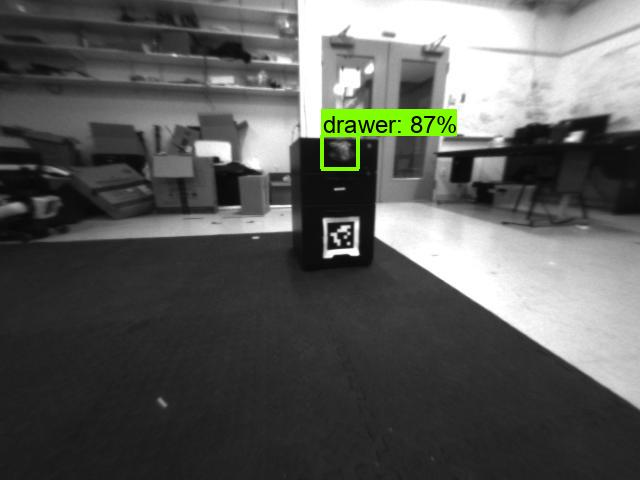door_handle: (367, 128, 384, 141)
drawer: (323, 139, 357, 167)
